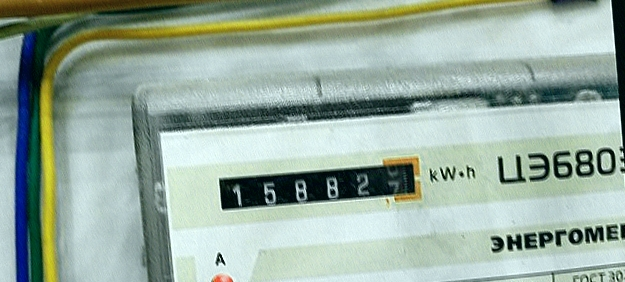1: (231, 180, 245, 207)
2: (354, 170, 372, 196)
5: (262, 178, 278, 205)
7: (386, 176, 402, 194)
8: (293, 176, 310, 202), (324, 173, 341, 199)
screen: (208, 149, 431, 223)
